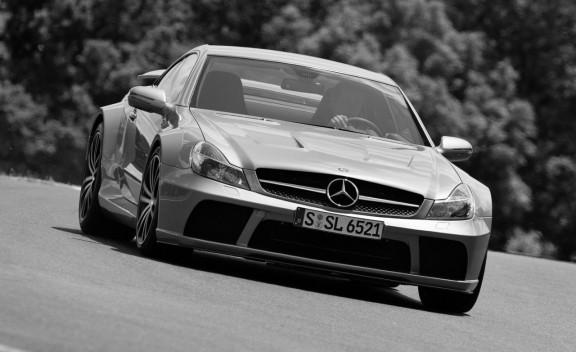car: (79, 45, 493, 316)
